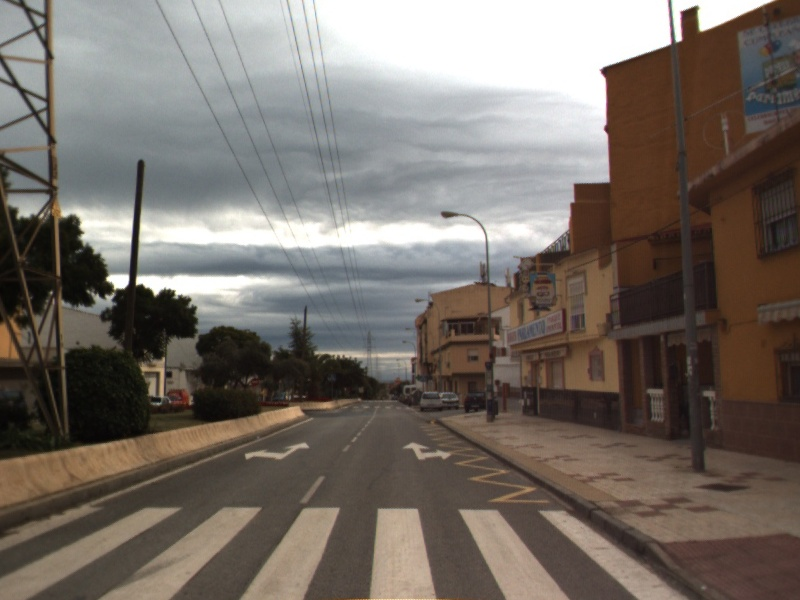STRAIGHT_LEFT: (243, 440, 312, 463)
STRAIGHT_RIGHT: (400, 440, 453, 462)
